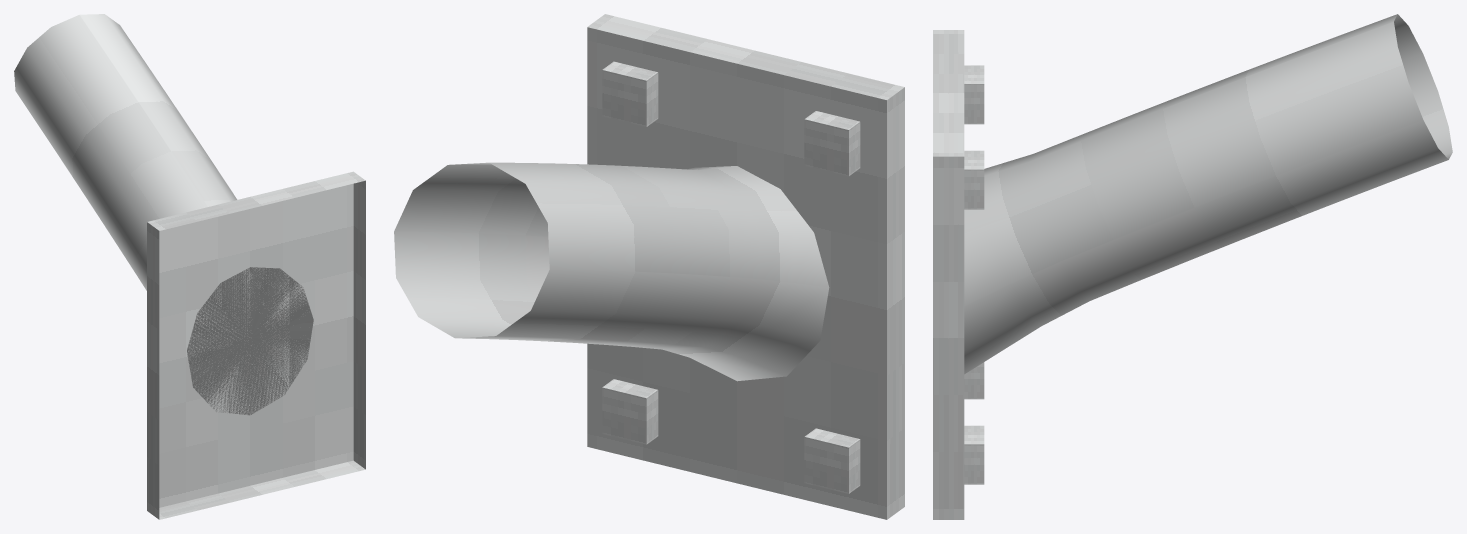
Rendered from luminairearm_caltrans15ftdouble_c0_wall.obj.
The picture shows the model from 3 angles, left to right: view 1: azimuth 30°, elevation 25°; view 2: azimuth 150°, elevation 25°; view 3: azimuth 270°, elevation 25°; orthographic projection. The views are drawn at different scales.
Parts seen in each view (by area): view 1: luminairearm_caltrans15ftdouble_c0_wall; view 2: luminairearm_caltrans15ftdouble_c0_wall; view 3: luminairearm_caltrans15ftdouble_c0_wall.
Part boxes in pixels (<box>): luminairearm_caltrans15ftdouble_c0_wall: <box>14,14,365,519</box>; luminairearm_caltrans15ftdouble_c0_wall: <box>394,14,904,519</box>; luminairearm_caltrans15ftdouble_c0_wall: <box>933,14,1452,519</box>.
Bounding box in the file's own units: 0.4222 × 0.6762 × 0.7322.
